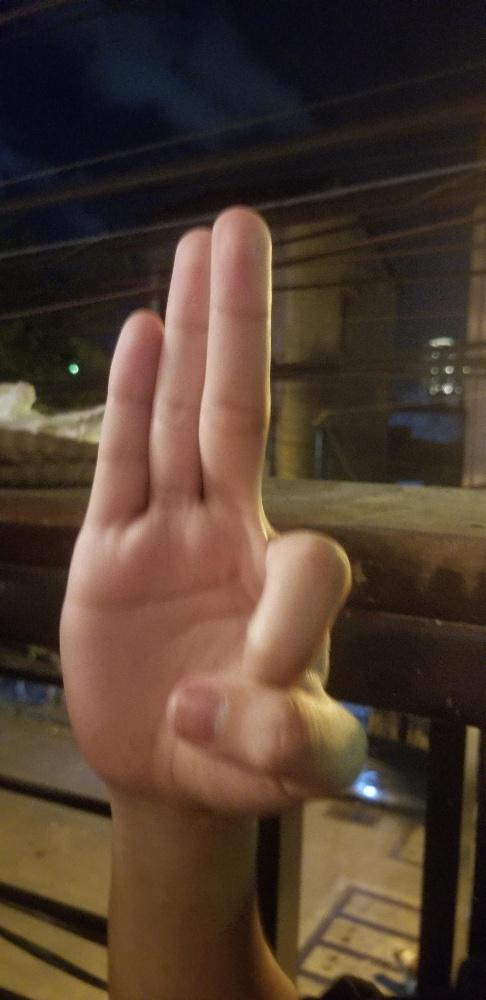f: (51, 201, 371, 823)
